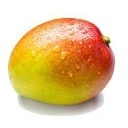mango: (8, 18, 115, 106)
